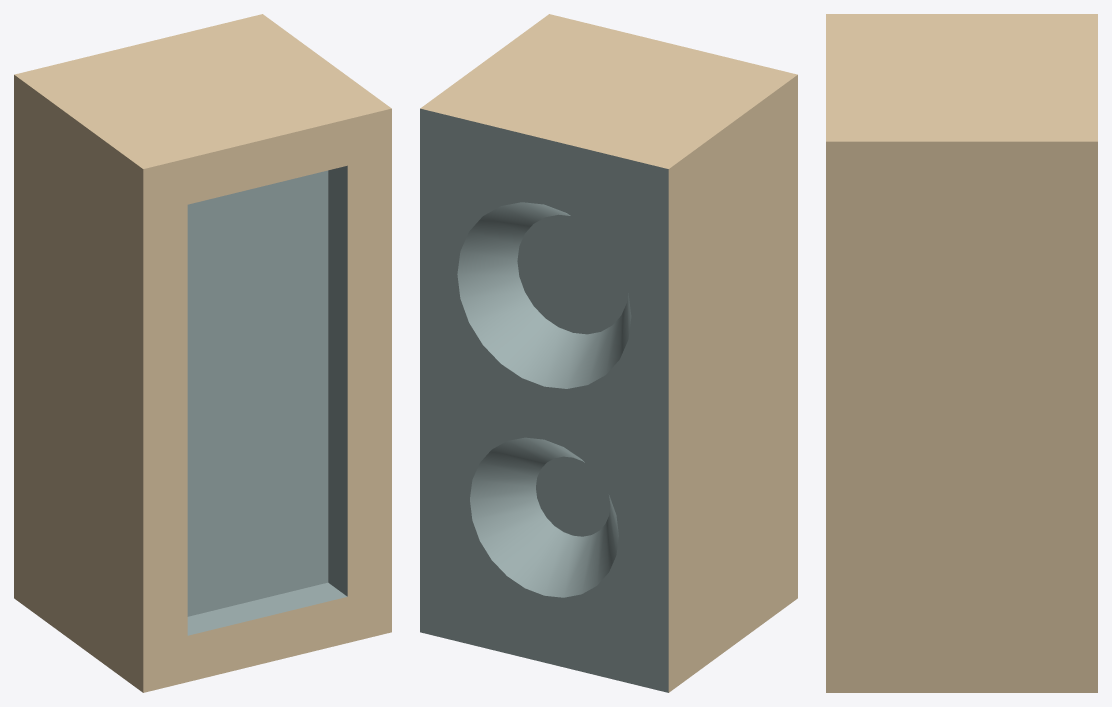
The model's file is speakerSmall.glb.
The picture shows the model from 3 angles, left to right: view 1: azimuth 30°, elevation 25°; view 2: azimuth 150°, elevation 25°; view 3: azimuth 270°, elevation 25°; orthographic projection. The views are drawn at different scales.
Parts seen in each view (by area): view 1: speakerSmall; view 2: speakerSmall; view 3: speakerSmall.
Part boxes in pixels (x1=…): speakerSmall: x1=14, y1=14, x2=391, y2=692; speakerSmall: x1=420, y1=14, x2=797, y2=692; speakerSmall: x1=826, y1=14, x2=1097, y2=692.
Size of the model in its own units: 1.48 by 2.98 by 1.33.
